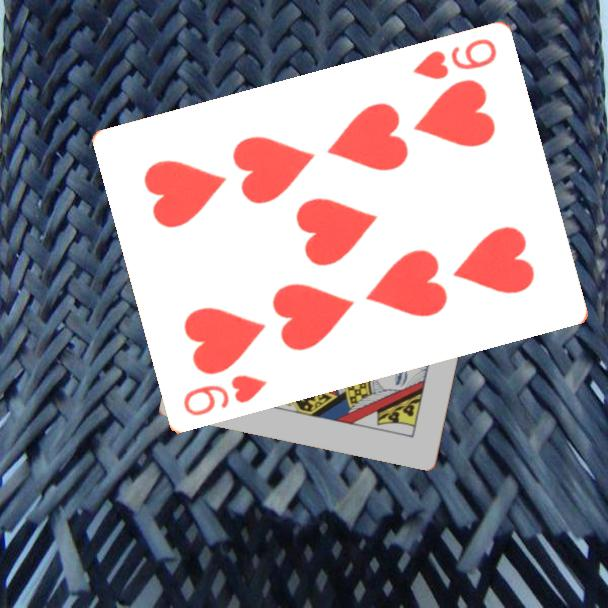h09: (179, 371, 270, 420), (408, 35, 499, 83)
